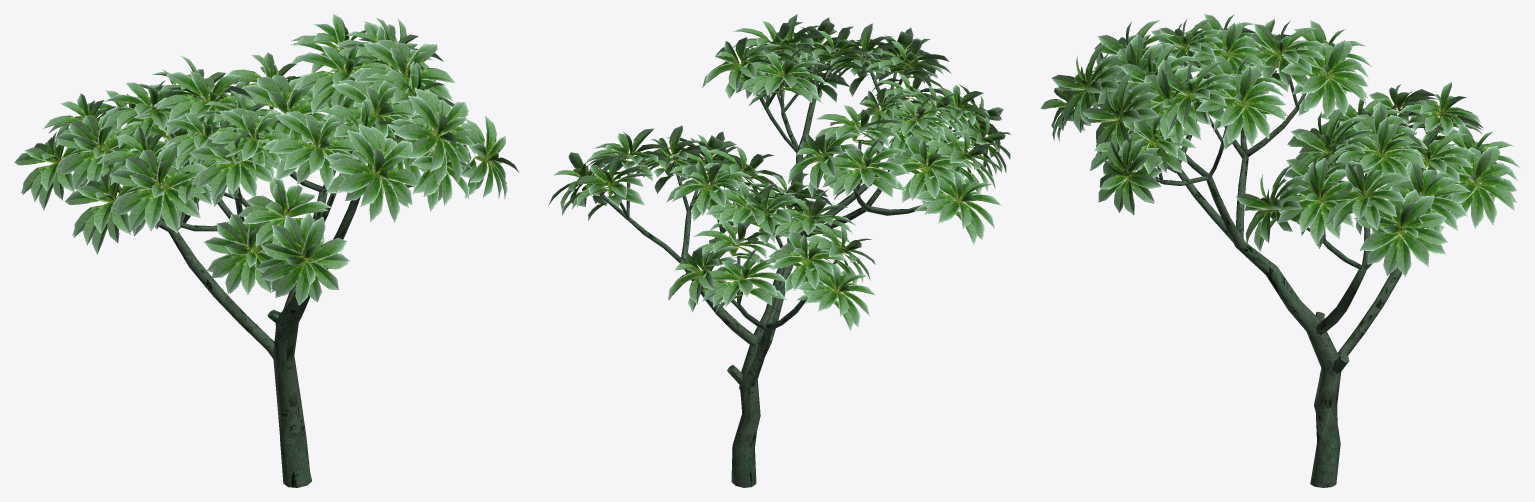
The model's file is sceneDraco.gltf.
The picture shows the model from 3 angles, left to right: view 1: azimuth 30°, elevation 25°; view 2: azimuth 150°, elevation 25°; view 3: azimuth 270°, elevation 25°; orthographic projection. The views are drawn at different scales.
Bounding box in the file's own units: 211 × 231 × 230.
Materials: 3 (2 with a texture image).
